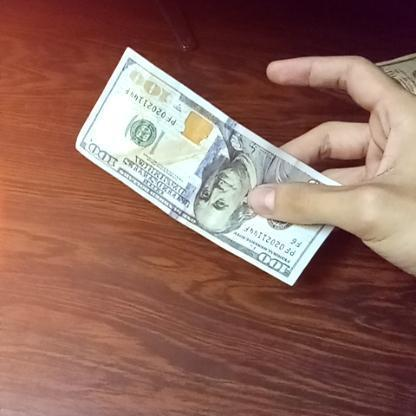one_hundred-front: (72, 45, 362, 292)
